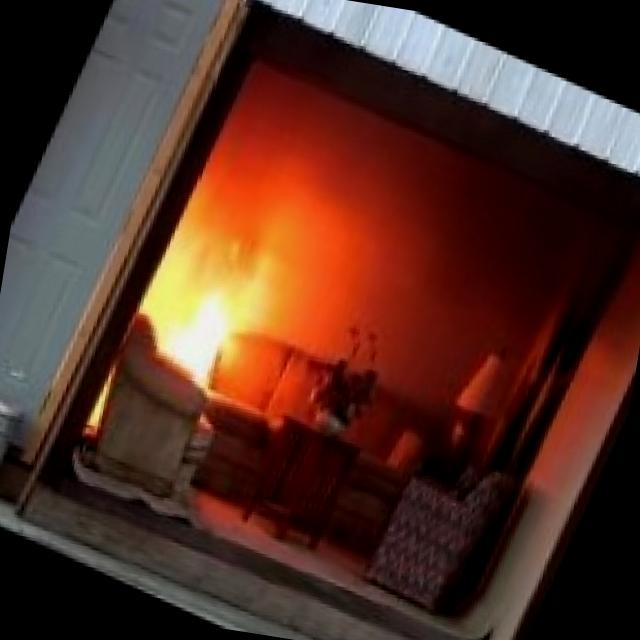fire: (138, 210, 281, 381)
